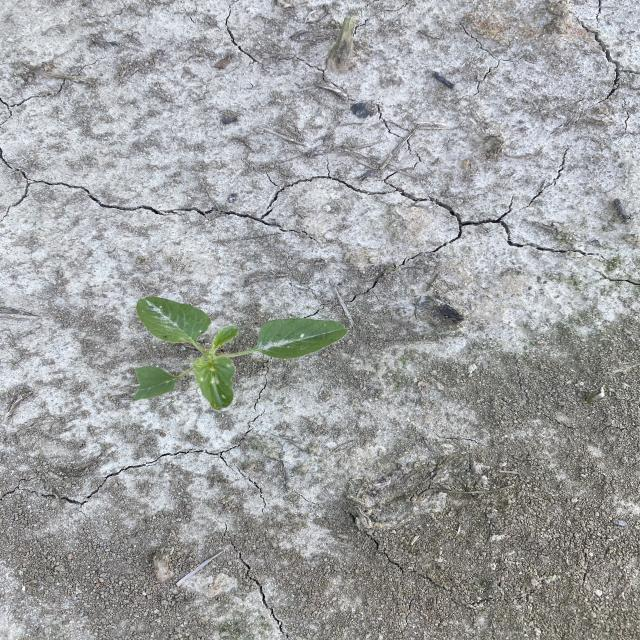PalmerAmaranth: (127, 294, 351, 412)
